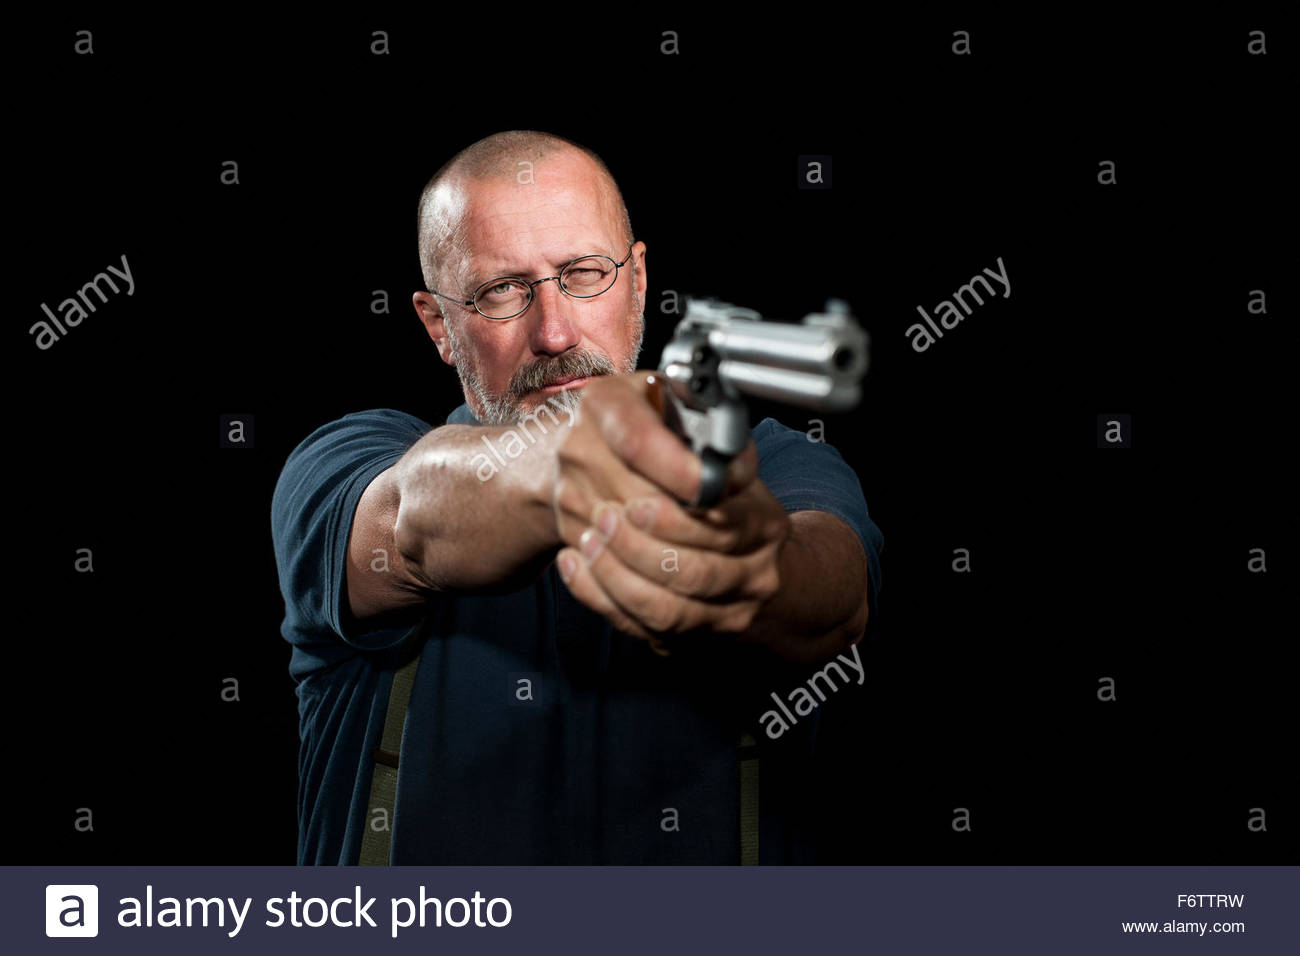Revolver: (636, 279, 885, 518)
